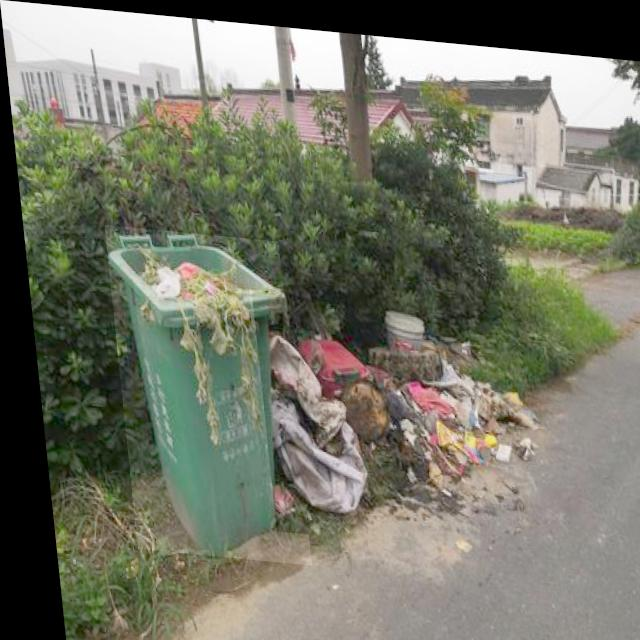garbage: (246, 290, 542, 548)
overflow: (100, 223, 300, 561)
